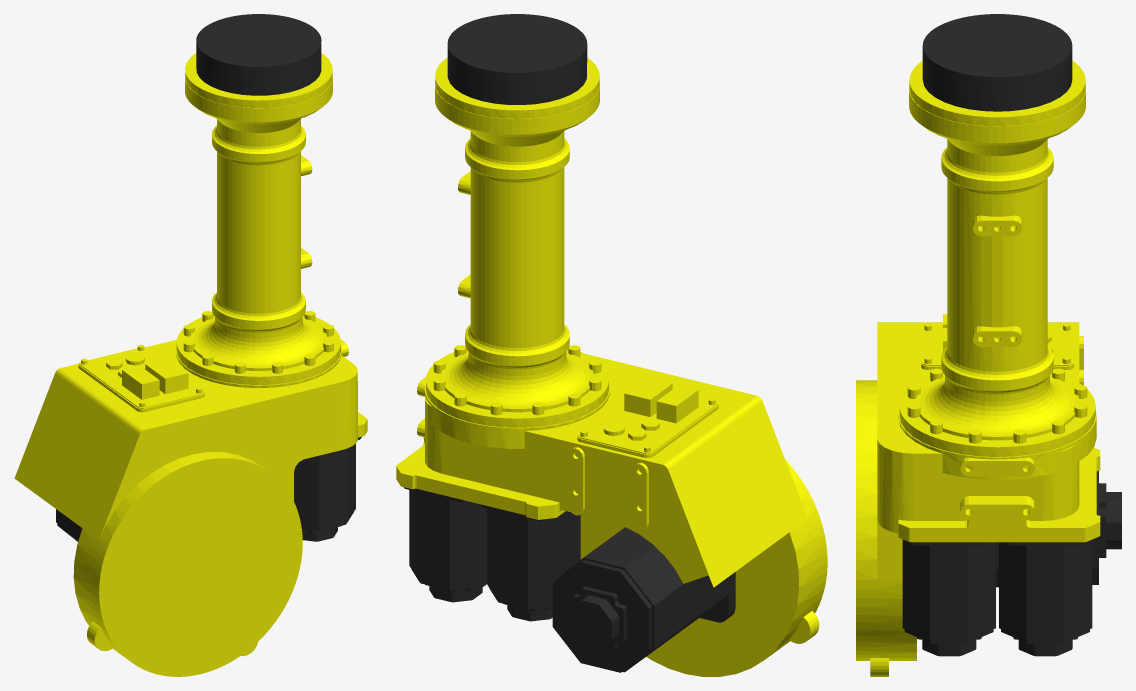
3 renders of one model, left to right at view 1: azimuth 30°, elevation 25°; view 2: azimuth 150°, elevation 25°; view 3: azimuth 270°, elevation 25°, orthographic. The views are drawn at different scales.
Parts seen in each view (by area): view 1: node; view 2: node; view 3: node.
Part boxes in pixels (bbox=[...]): node: bbox=[14, 14, 367, 676]; node: bbox=[396, 14, 827, 676]; node: bbox=[856, 14, 1121, 676].
Size of the model in its own units: 564 by 1030 by 370.
